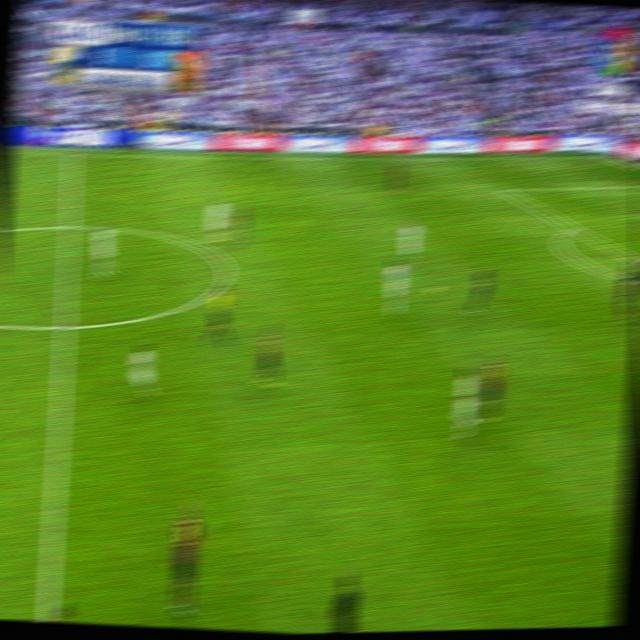corner: (594, 151, 609, 161)
halfcircle_bottom: (54, 311, 75, 340)
halfcircle_top: (60, 213, 79, 239)
midline_top_intersection: (64, 146, 80, 160)
top_arc_area_intersection: (564, 219, 580, 234)
